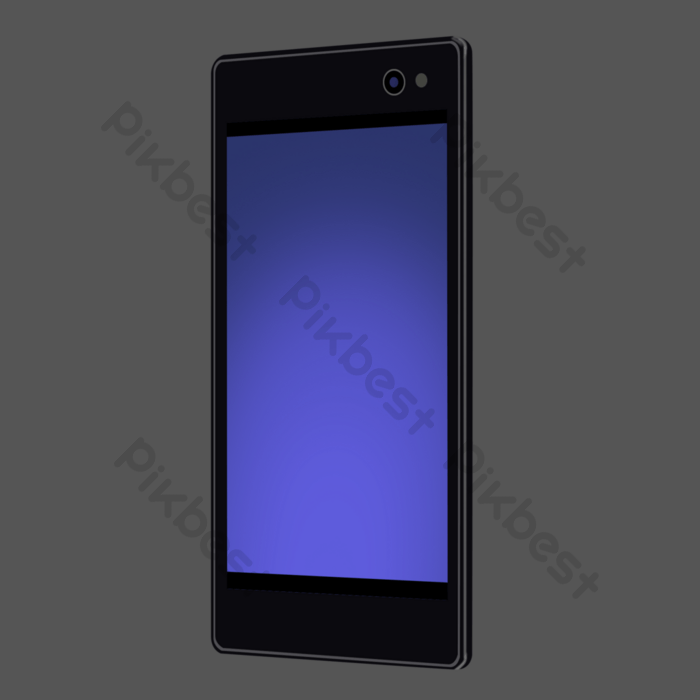Phone: (208, 32, 475, 672)
